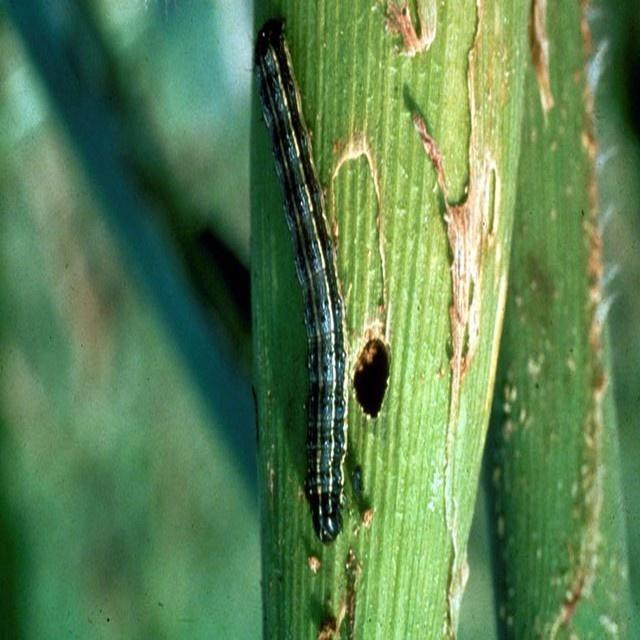worm: (253, 17, 350, 544)
